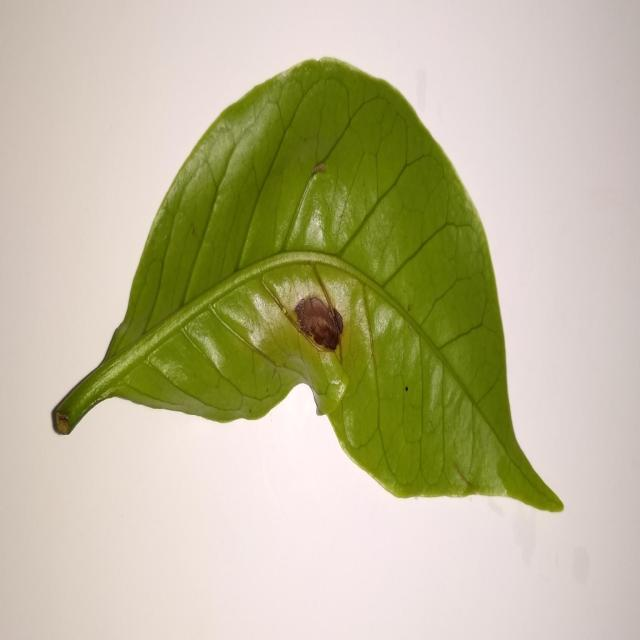Enfermedad-Antracnosis: (49, 58, 564, 515)
